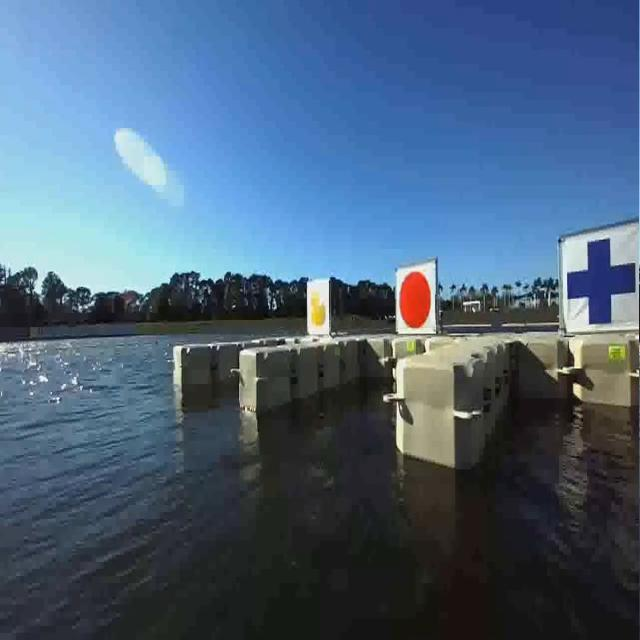blue-cross: (555, 228, 640, 334)
red-dot: (393, 259, 438, 336)
yellow-duck: (306, 278, 330, 336)
